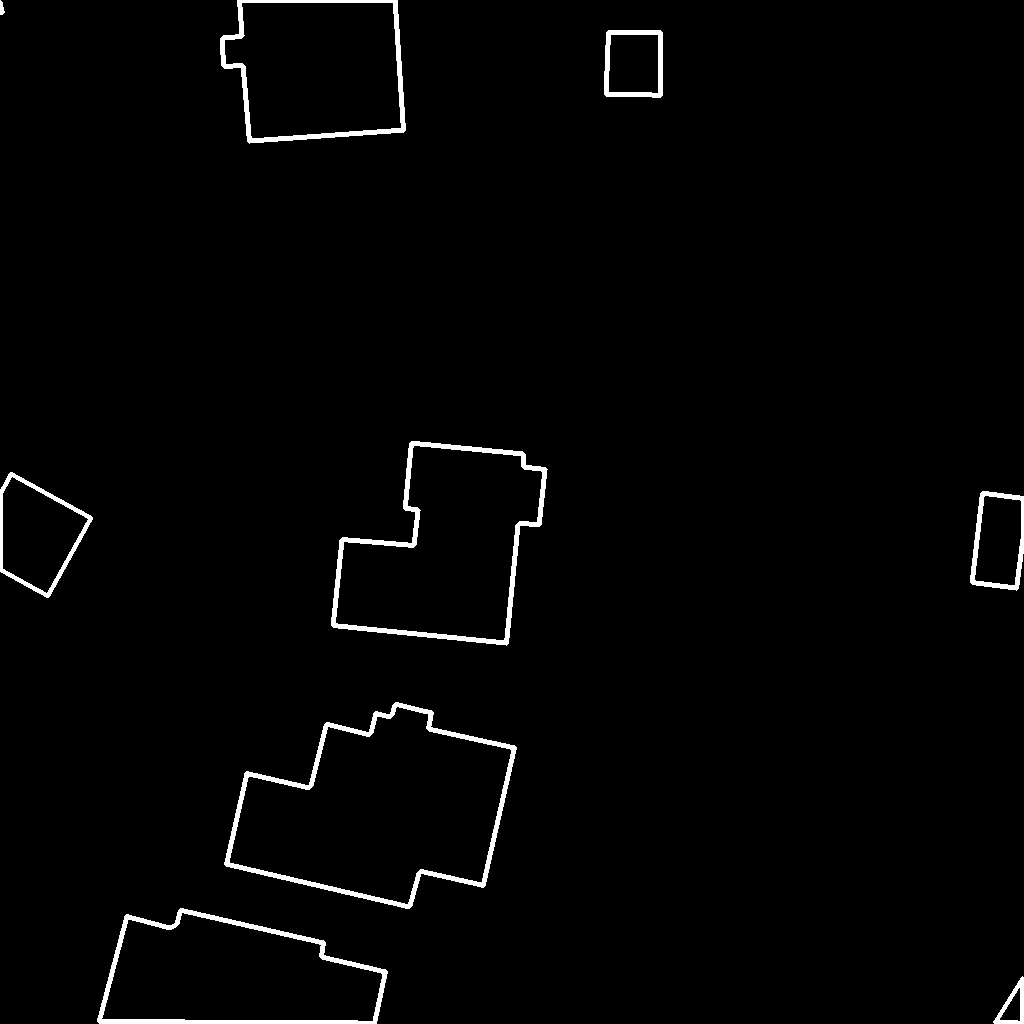building: (226, 704, 516, 908), (333, 443, 546, 644), (99, 910, 387, 1024), (222, 0, 405, 142), (0, 474, 92, 597), (972, 493, 1024, 589), (606, 32, 662, 96), (995, 978, 1024, 1024), (0, 0, 4, 14)
